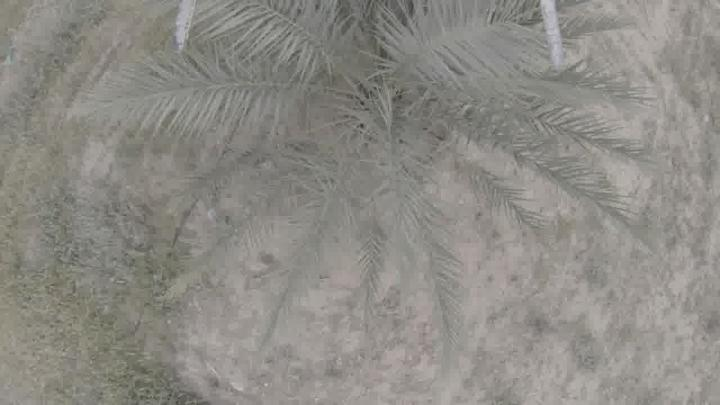Date-Palm-Crown: (216, 1, 534, 192)
